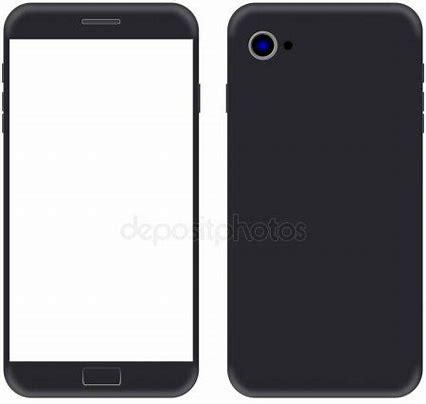Smart Phone: (2, 1, 200, 400)
